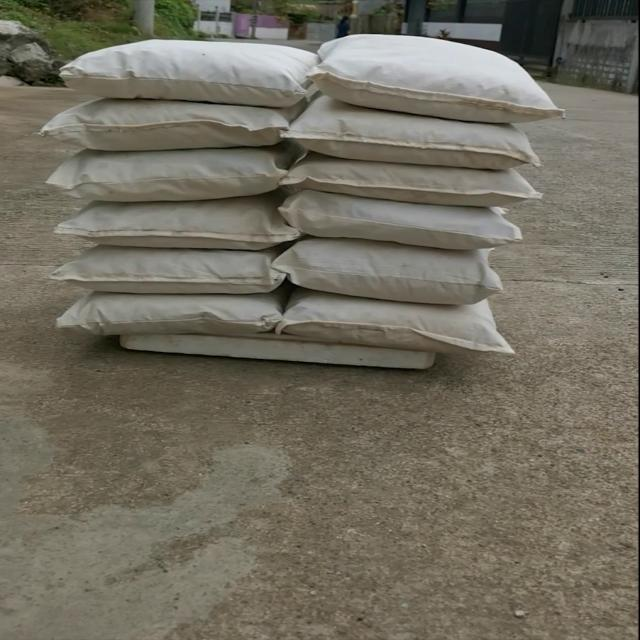Sack: (314, 28, 564, 130), (287, 99, 554, 177), (35, 89, 296, 164), (50, 34, 316, 106), (276, 183, 531, 257), (287, 289, 527, 363), (41, 141, 285, 213), (276, 236, 515, 308), (283, 154, 549, 215), (60, 279, 283, 345), (55, 189, 295, 250), (54, 239, 289, 297)
